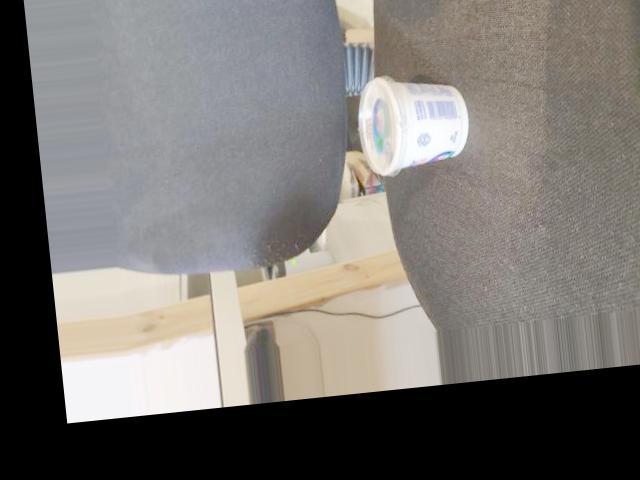cotage: (350, 71, 483, 175)
